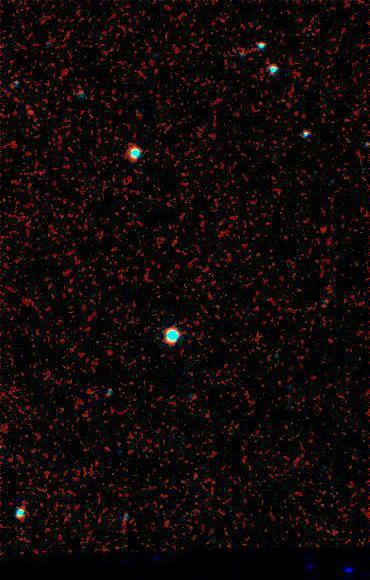star: (17, 96, 47, 126)
